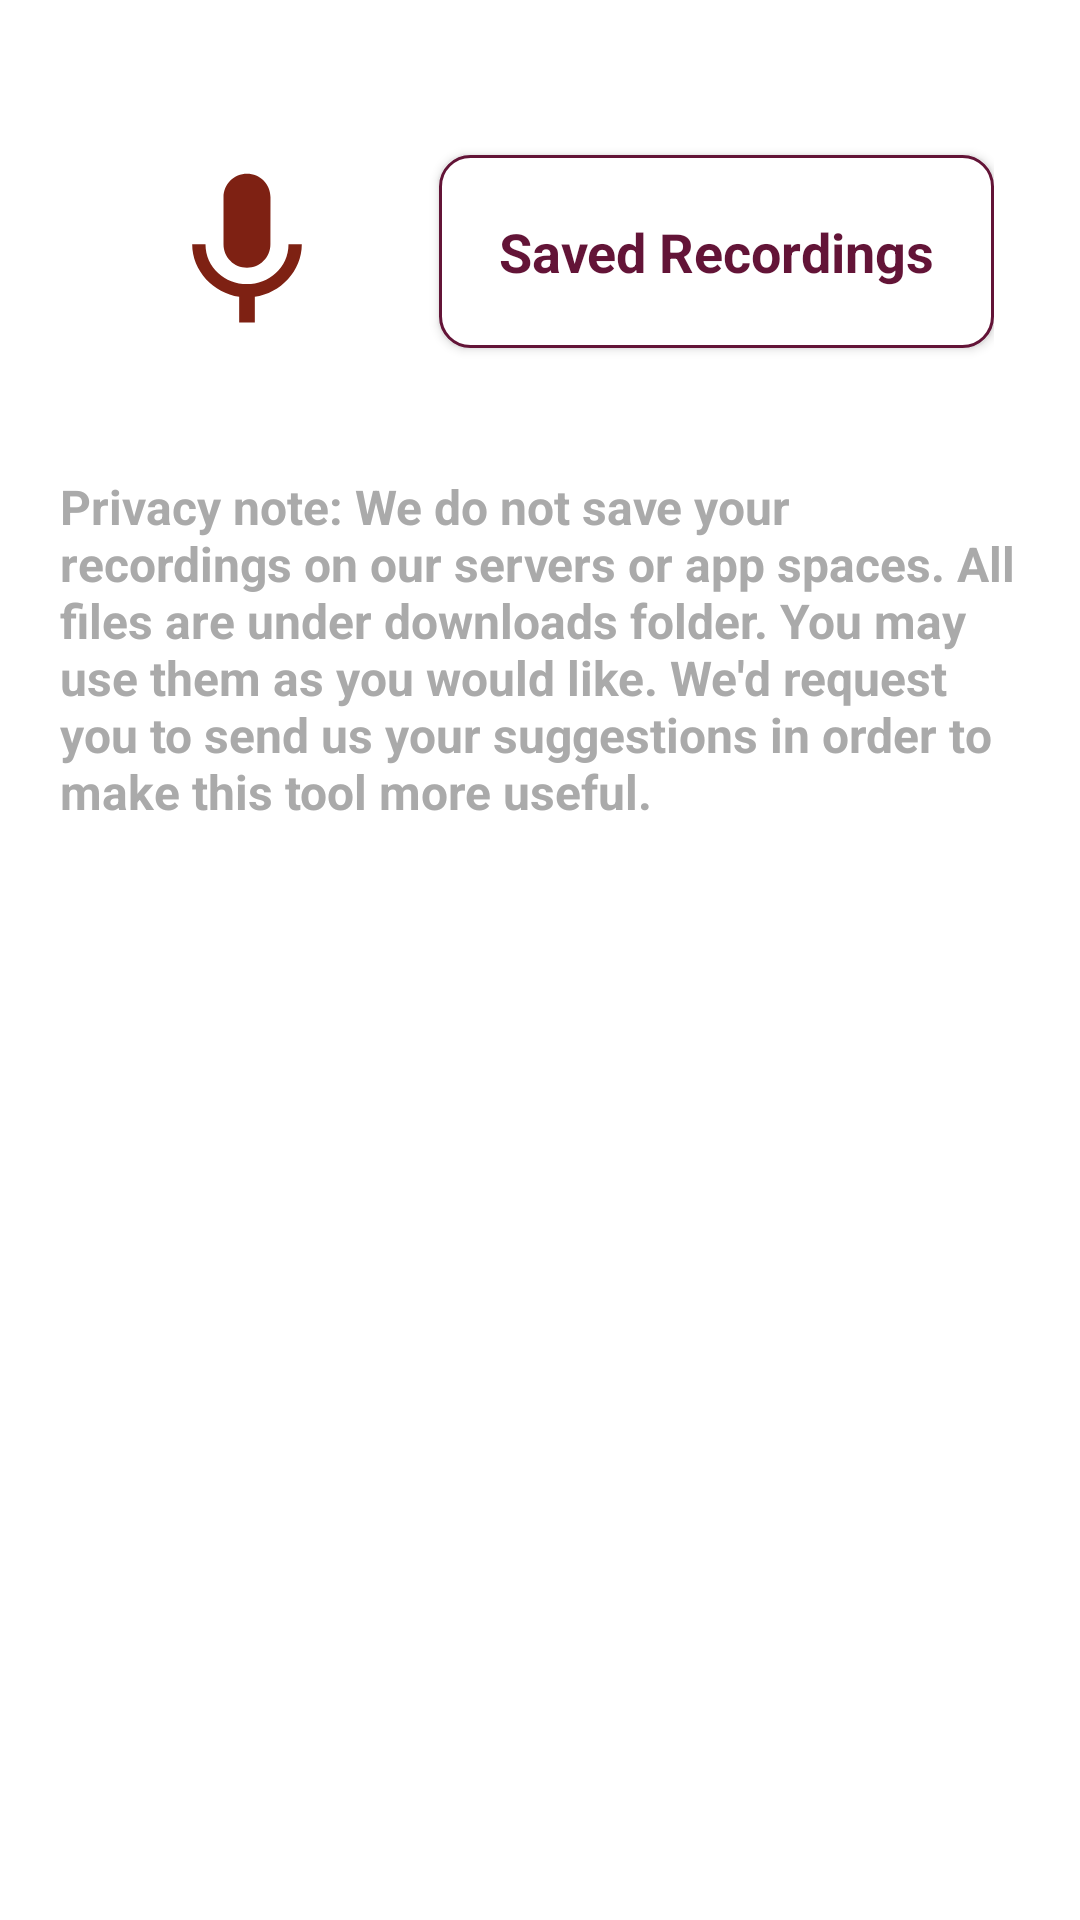

Icons on this 1080*1920 Android screen, each with the point to tap as [x,y]:
microphone: [247,248]
